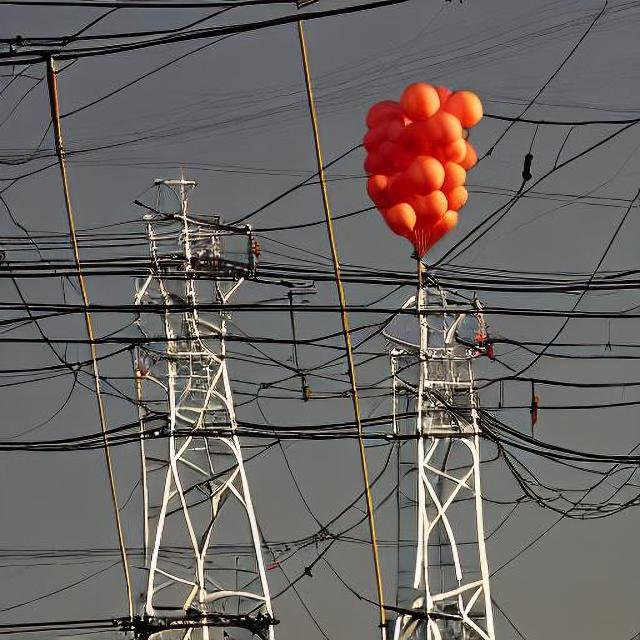balloon: (354, 77, 483, 267)
